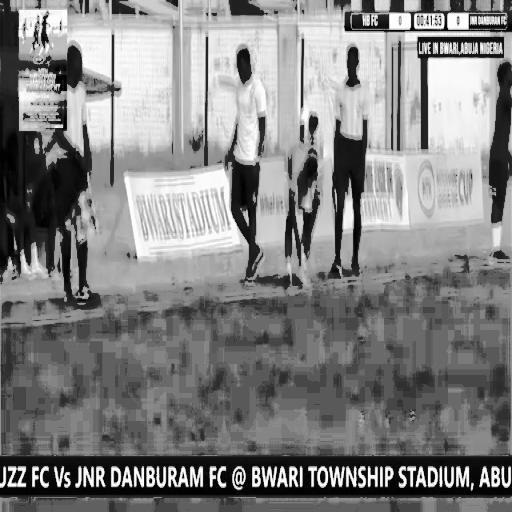distract: (228, 26, 273, 289)
referee: (66, 23, 108, 313), (328, 28, 372, 282)
team1: (283, 124, 324, 284)
